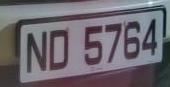4: (141, 14, 160, 60)
5: (79, 20, 105, 68)
6: (122, 17, 143, 62)
7: (103, 17, 123, 66)
D: (48, 24, 73, 75)
N: (25, 25, 49, 80)
